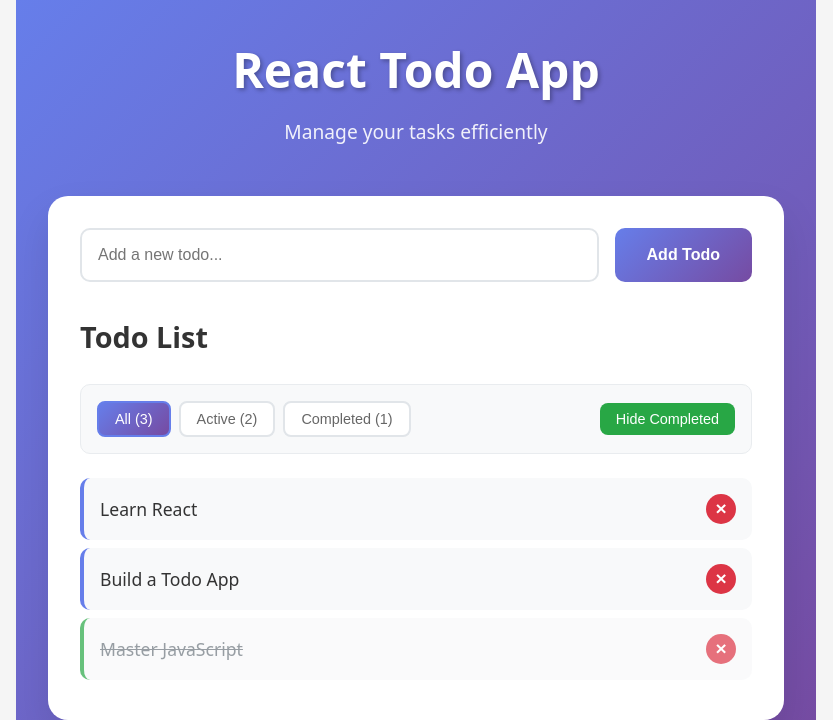
Test: TodoList Component › Deleting Todos › deletes the correct todo when multiple delete buttons are clicked
# Click delete button
Step 1. Click the button named "delete todo" → [721, 579], box [706, 564, 736, 594]
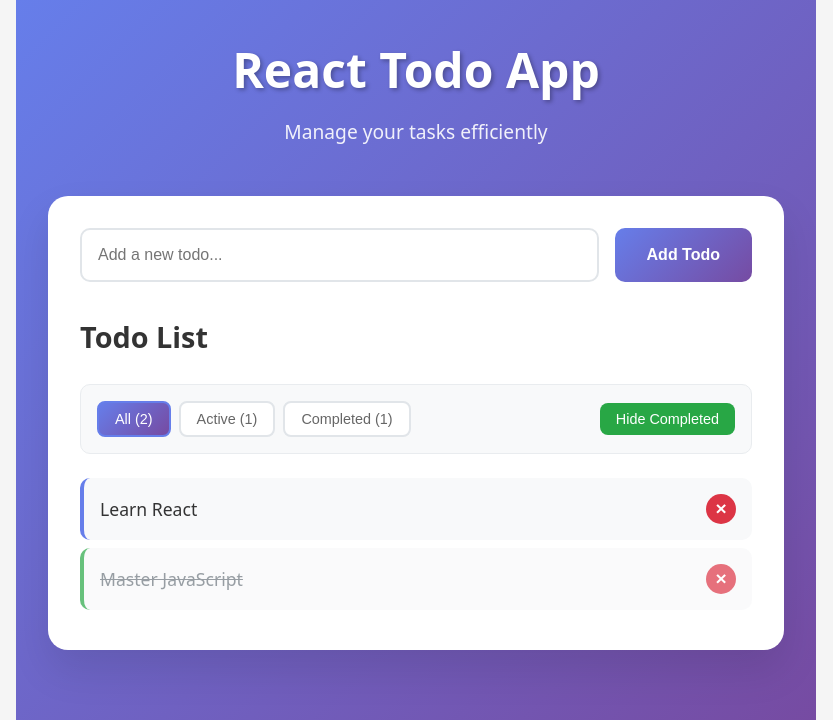
Expected: the text "Learn React" is shown, [100, 496, 197, 520]
Expected: the text "Build a Todo App" is gone
